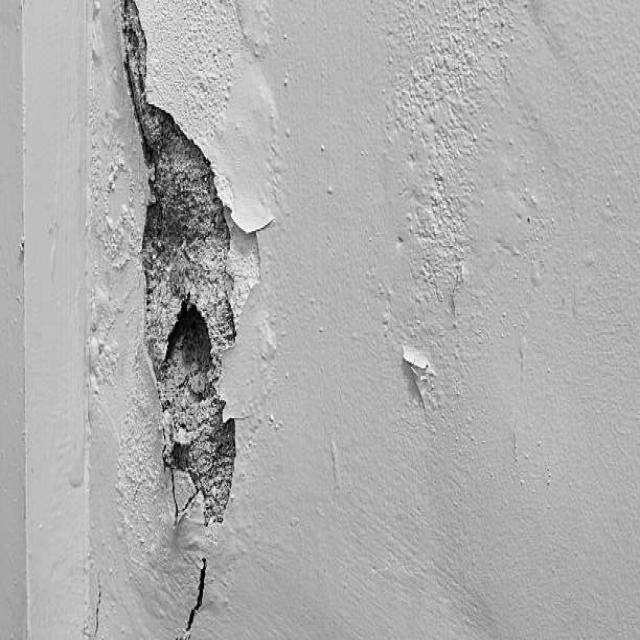peeling paint: (80, 0, 460, 640)
